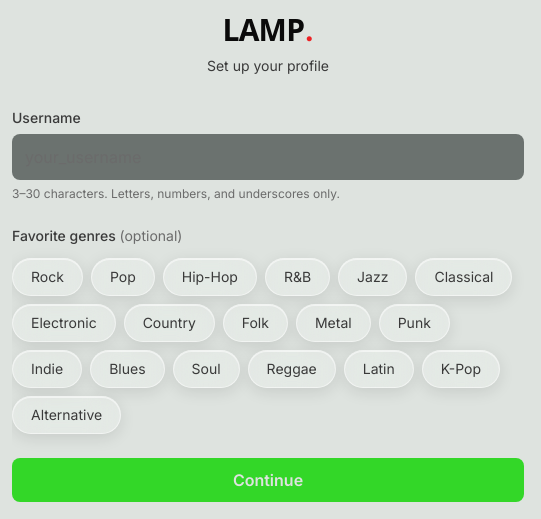
Test: OnboardingForm › shows loading state while submitting
The image size is (541, 519).
Type "validuser" into the field labelled "Username". click: (268, 157)
box: [12,134,524,180]
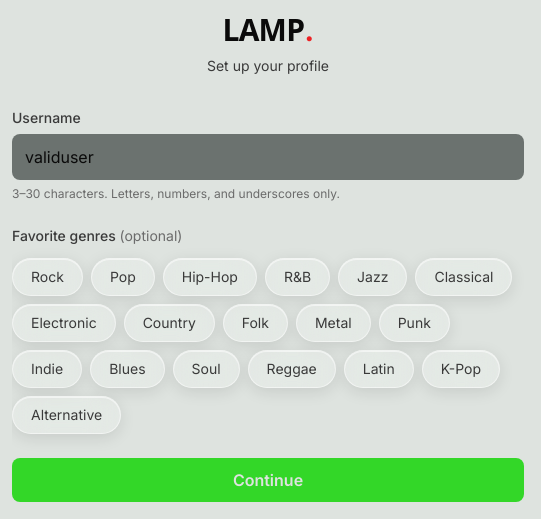
Click the button "Continue". click: (268, 480)
box: [12,458,524,502]
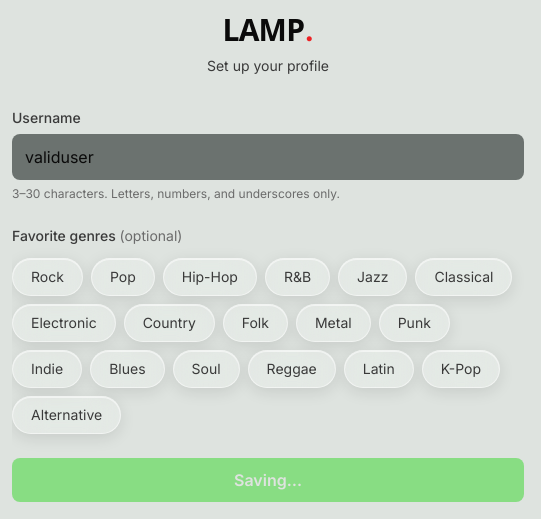
Expected: the button "Saving…" is disabled, [12,458,524,502]
